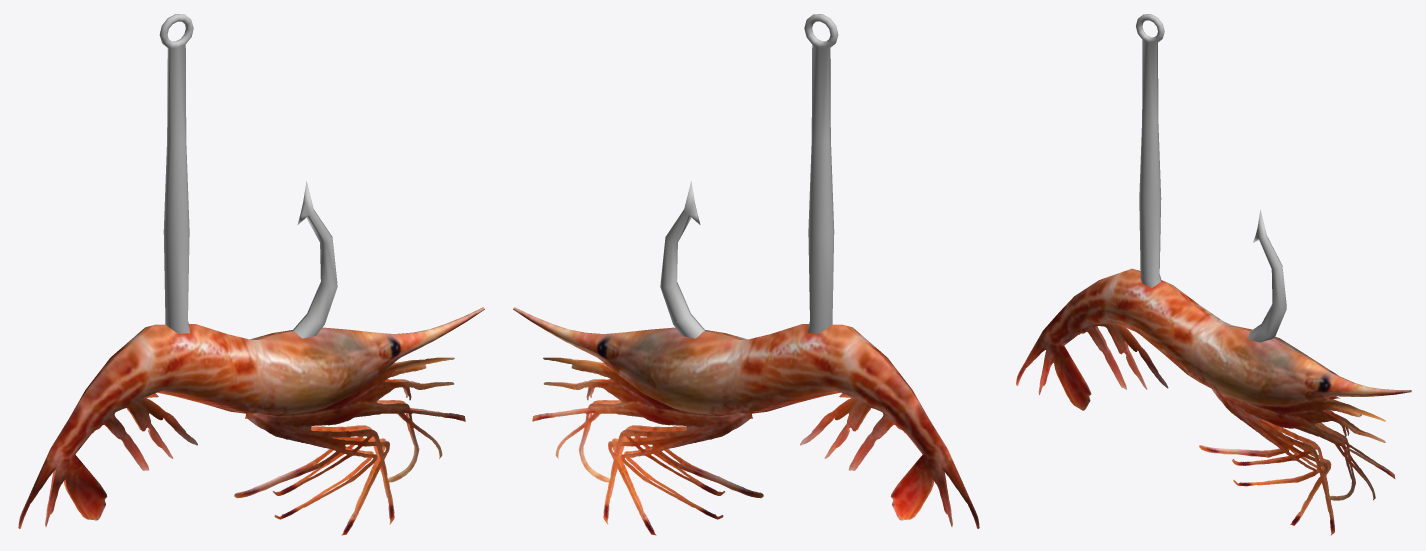
The model's file is Bait_SouthernRoughShrimp.fbx.
3 views of the same model, side by side, from view 1: azimuth 30°, elevation 25°; view 2: azimuth 150°, elevation 25°; view 3: azimuth 330°, elevation 25° (orthographic). The views are drawn at different scales.
Visible parts, largest first — view 1: Bait_MorotogeShrimp; view 2: Bait_MorotogeShrimp; view 3: Bait_MorotogeShrimp.
Boxes of the visible parts, bbox=[...] form: Bait_MorotogeShrimp: bbox=[18, 14, 484, 535]; Bait_MorotogeShrimp: bbox=[513, 14, 979, 535]; Bait_MorotogeShrimp: bbox=[1016, 14, 1411, 535].
Size of the model in its own units: 0.5614 by 0.644 by 0.0886.
